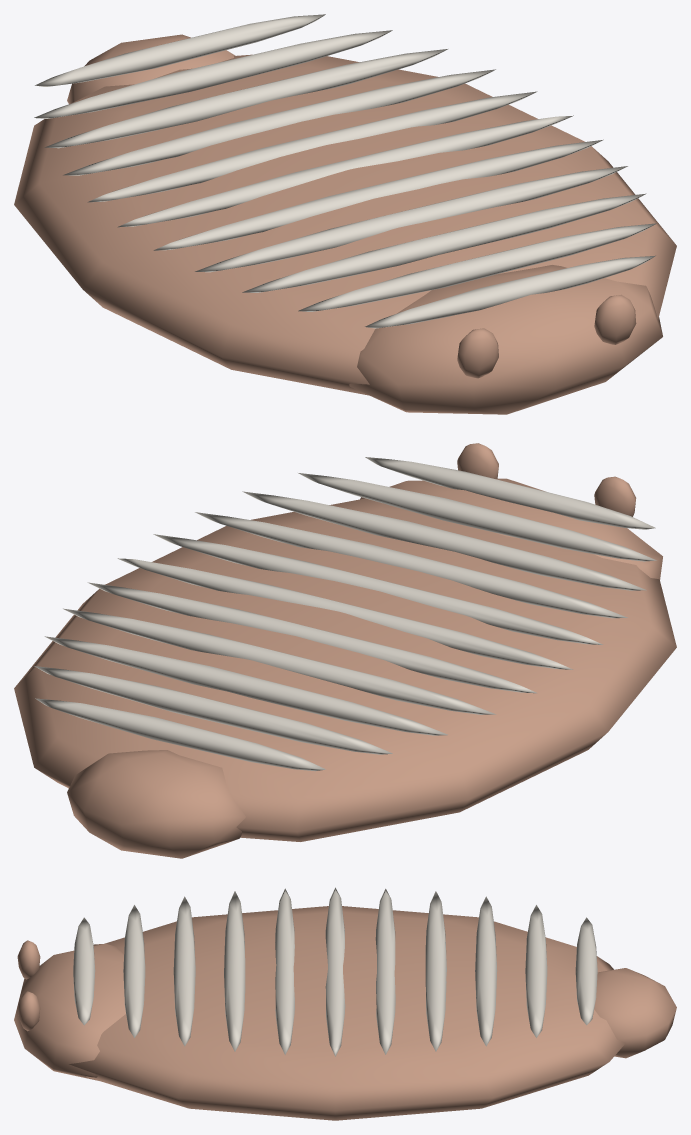
Rendered from org_dickinsonia.glb.
3 views of the same model, one above another, from view 1: azimuth 30°, elevation 25°; view 2: azimuth 150°, elevation 25°; view 3: azimuth 270°, elevation 25° (orthographic). The views are drawn at different scales.
Visible parts, largest first — view 1: Body, Head, Tail, Eye_L, Eye_R; view 2: Body, Tail, Head, Eye_R, Eye_L; view 3: Body, Head, Tail, Eye_L, Eye_R.
Part boxes in pixels (x1=…): Body: x1=14, y1=14, x2=676, y2=395; Head: x1=349, y1=265, x2=662, y2=414; Tail: x1=67, y1=34, x2=235, y2=104; Eye_L: x1=594, y1=294, x2=636, y2=344; Eye_R: x1=457, y1=328, x2=498, y2=378; Body: x1=14, y1=457, x2=676, y2=841; Tail: x1=67, y1=750, x2=245, y2=858; Head: x1=360, y1=478, x2=662, y2=579; Eye_R: x1=594, y1=476, x2=636, y2=516; Eye_L: x1=457, y1=443, x2=498, y2=478; Body: x1=69, y1=887, x2=625, y2=1120; Head: x1=14, y1=943, x2=125, y2=1080; Tail: x1=594, y1=968, x2=676, y2=1058; Eye_L: x1=17, y1=991, x2=40, y2=1031; Eye_R: x1=17, y1=940, x2=40, y2=979.
Size of the model in its own units: 1.35 by 0.3 by 1.93.
